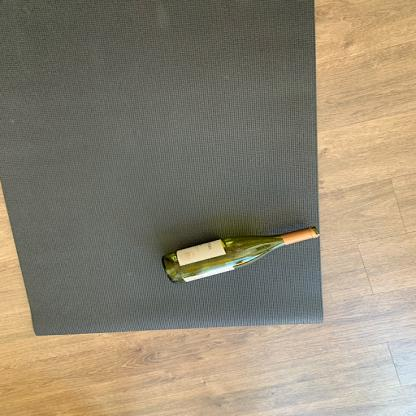trash: (154, 222, 325, 288)
